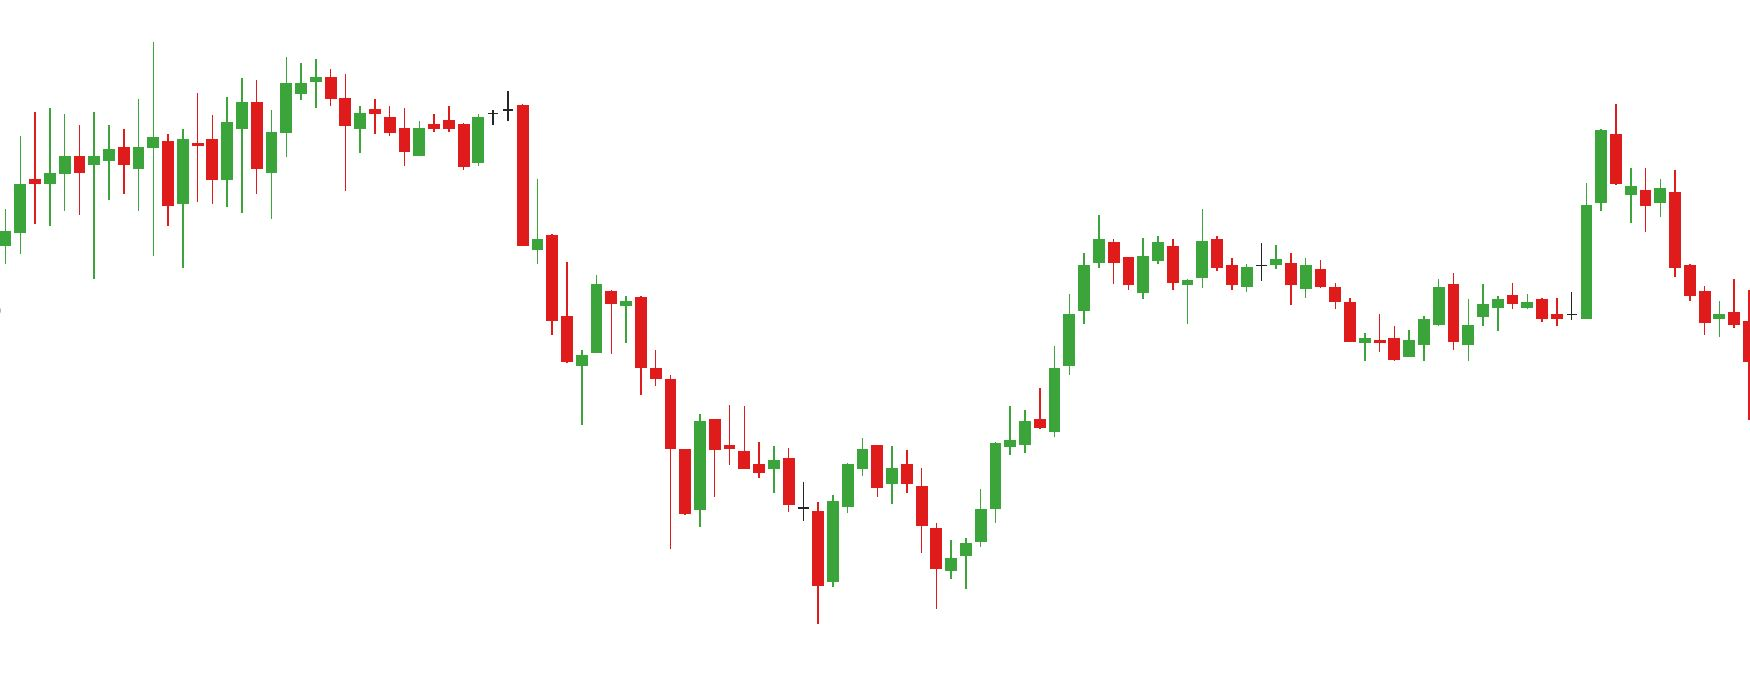buy: (664, 436, 842, 629)
